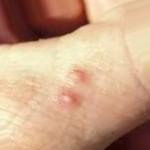Ants: (56, 87, 80, 111), (64, 64, 90, 86)
